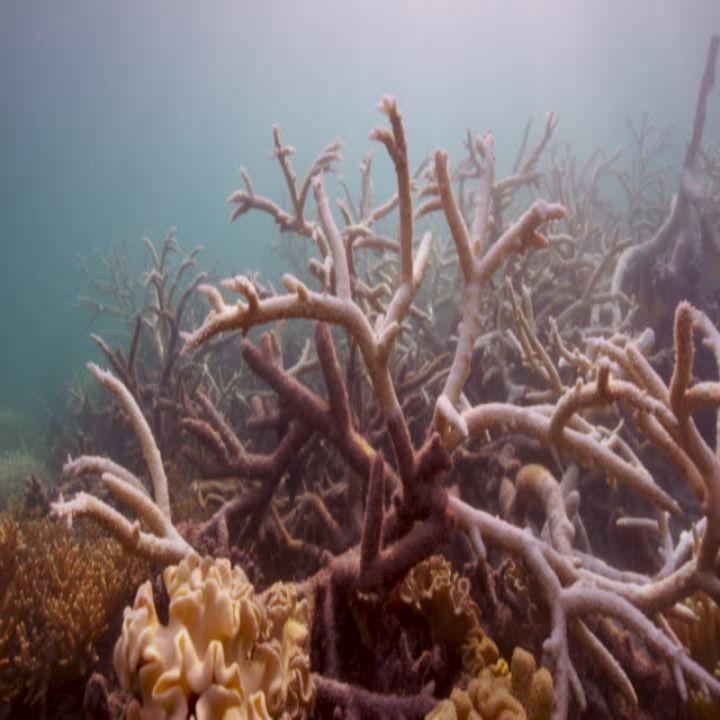Dead Coral: (94, 170, 699, 719)
